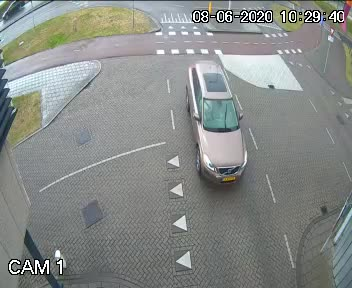car: (170, 49, 256, 198)
